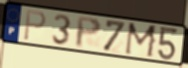3: (51, 14, 73, 47)
5: (156, 26, 179, 62)
7: (104, 18, 127, 53)
M: (123, 21, 159, 60)
P: (74, 16, 103, 50), (22, 9, 48, 42)
